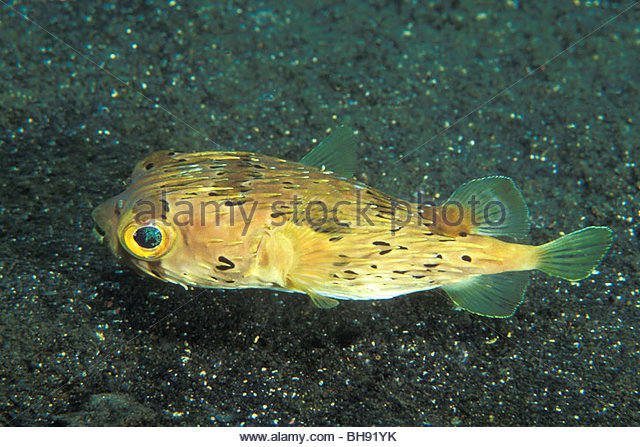Diodon_holocanthus: (63, 119, 620, 340)
